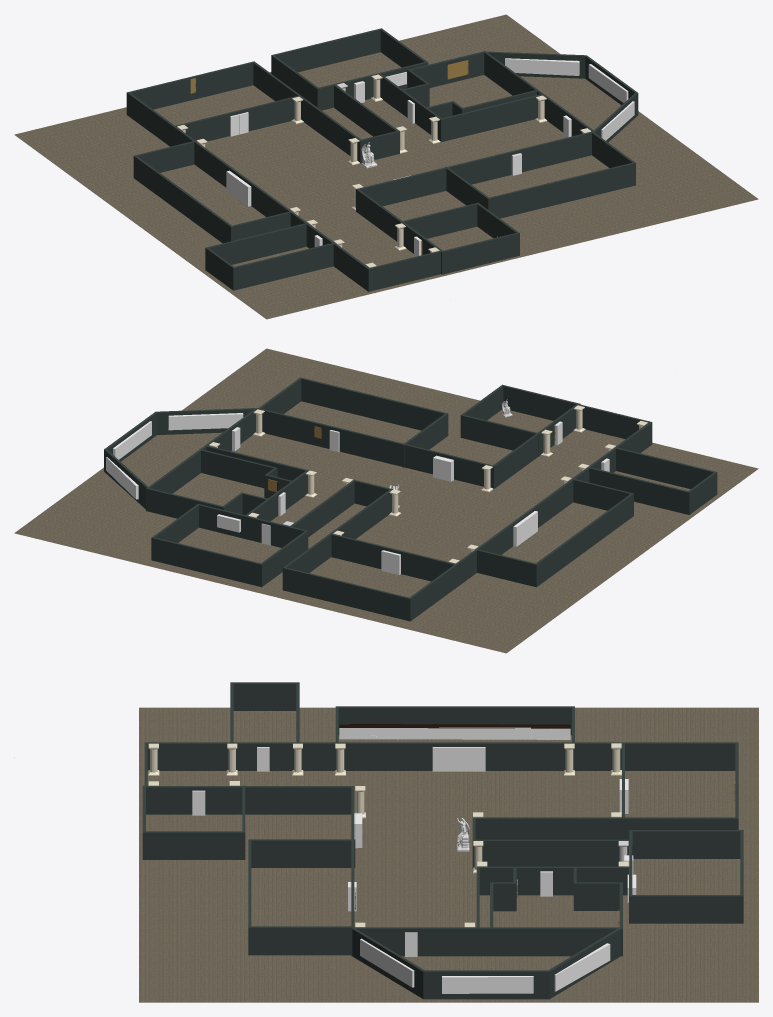
Rendered from nowalls_coll.glb.
3 renders of one model, top to bottom at view 1: azimuth 30°, elevation 25°; view 2: azimuth 150°, elevation 25°; view 3: azimuth 270°, elevation 25°, orthographic. The views are drawn at different scales.
Parts seen in each view (by area): view 1: Plane, Room, Room.005, Room.001, Room.007, Room.006, Room.002, Room.003, Room.008, Room.010, CTRL_Hole.012, Room.004 (+3 smaller); view 2: Plane, Room, Room.001, Room.007, Room.005, Room.006, Room.002, Room.008, Room.010, Room.004, Room.003, CTRL_Hole.014 (+4 smaller); view 3: Plane, Room, Room.002, Room.001, Room.007, Room.010, Room.006, Room.003, Room.005, Cabinet1_Door.002, CTRL_Hole.013, CTRL_Hole.008 (+4 smaller).
Part boxes in pixels (bbox=[...]): Plane: bbox=[14, 14, 758, 319]; Room: bbox=[126, 61, 635, 291]; Room.005: bbox=[205, 223, 333, 290]; Room.001: bbox=[271, 28, 428, 110]; Room.007: bbox=[133, 141, 290, 243]; Room.006: bbox=[400, 202, 519, 274]; Room.002: bbox=[402, 51, 595, 136]; Room.003: bbox=[379, 73, 542, 142]; Room.008: bbox=[175, 96, 298, 141]; Room.010: bbox=[483, 51, 638, 142]; CTRL_Hole.012: bbox=[505, 58, 579, 75]; Room.004: bbox=[427, 90, 536, 118]; Plane: bbox=[14, 348, 758, 653]; Room: bbox=[258, 377, 652, 621]; Room.001: bbox=[151, 503, 308, 587]; Room.007: bbox=[477, 479, 633, 587]; Room.005: bbox=[589, 447, 717, 514]; Room.006: bbox=[460, 384, 580, 456]; Room.002: bbox=[146, 407, 267, 518]; Room.008: bbox=[331, 534, 455, 581]; Room.010: bbox=[104, 408, 255, 509]; Room.004: bbox=[201, 449, 291, 498]; Room.003: bbox=[206, 445, 309, 538]; CTRL_Hole.014: bbox=[168, 413, 243, 430]; Plane: bbox=[139, 707, 758, 1002]; Room: bbox=[144, 742, 738, 955]; Room.002: bbox=[351, 867, 622, 956]; Room.001: bbox=[629, 830, 743, 923]; Room.007: bbox=[335, 706, 574, 742]; Room.010: bbox=[352, 928, 620, 999]; Room.006: bbox=[142, 785, 245, 859]; Room.003: bbox=[476, 866, 630, 927]; Room.005: bbox=[230, 682, 299, 742]; Cabinet1_Door.002: bbox=[396, 727, 530, 739]; CTRL_Hole.013: bbox=[442, 976, 533, 993]; CTRL_Hole.008: bbox=[432, 747, 485, 771].
Size of what is drawn, in the model's own units: 55.09 by 4.26 by 58.78.
Materials: 24 (1 with a texture image).
